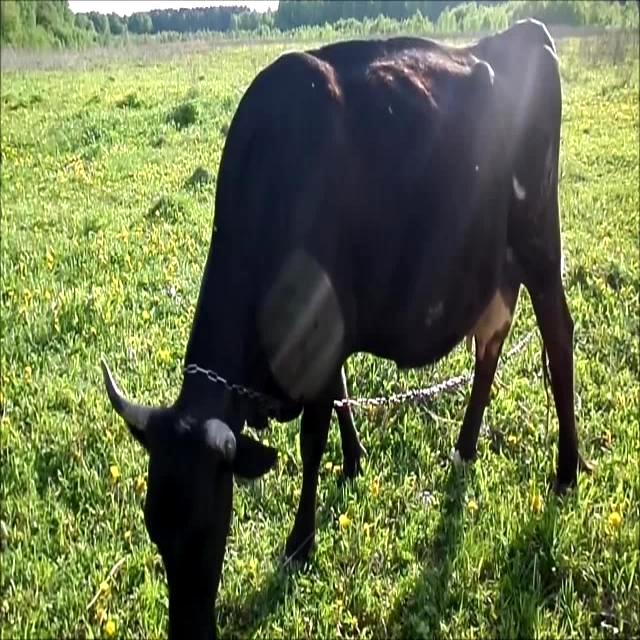COW: (102, 20, 580, 639)
